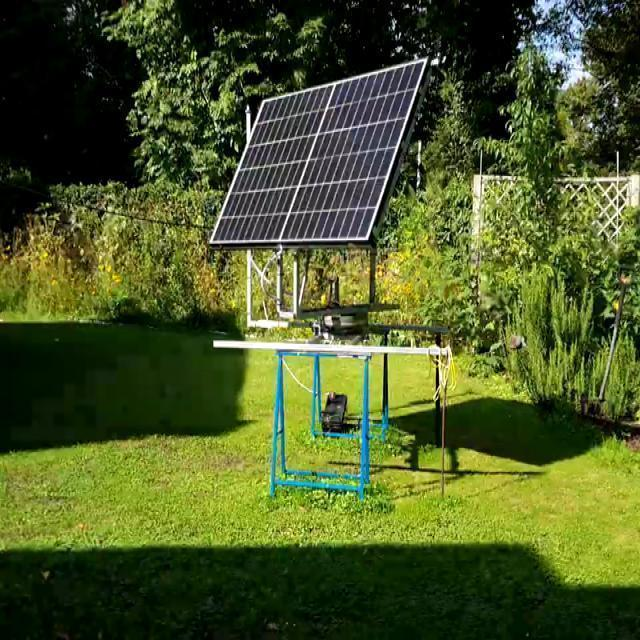Normal Solar Panel: (212, 63, 425, 244)
